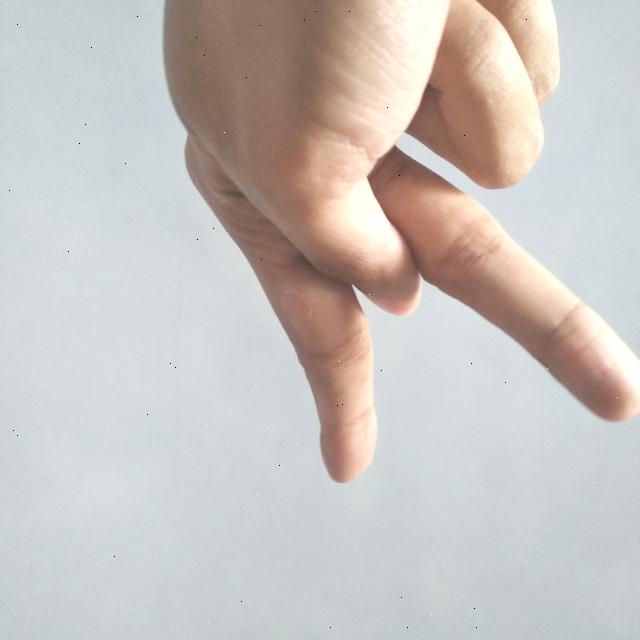P: (157, 0, 640, 505)
